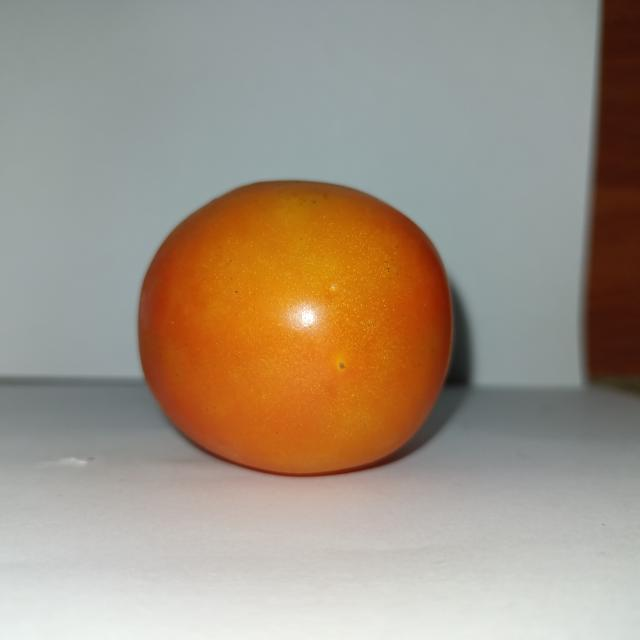Red: (135, 177, 455, 477)
